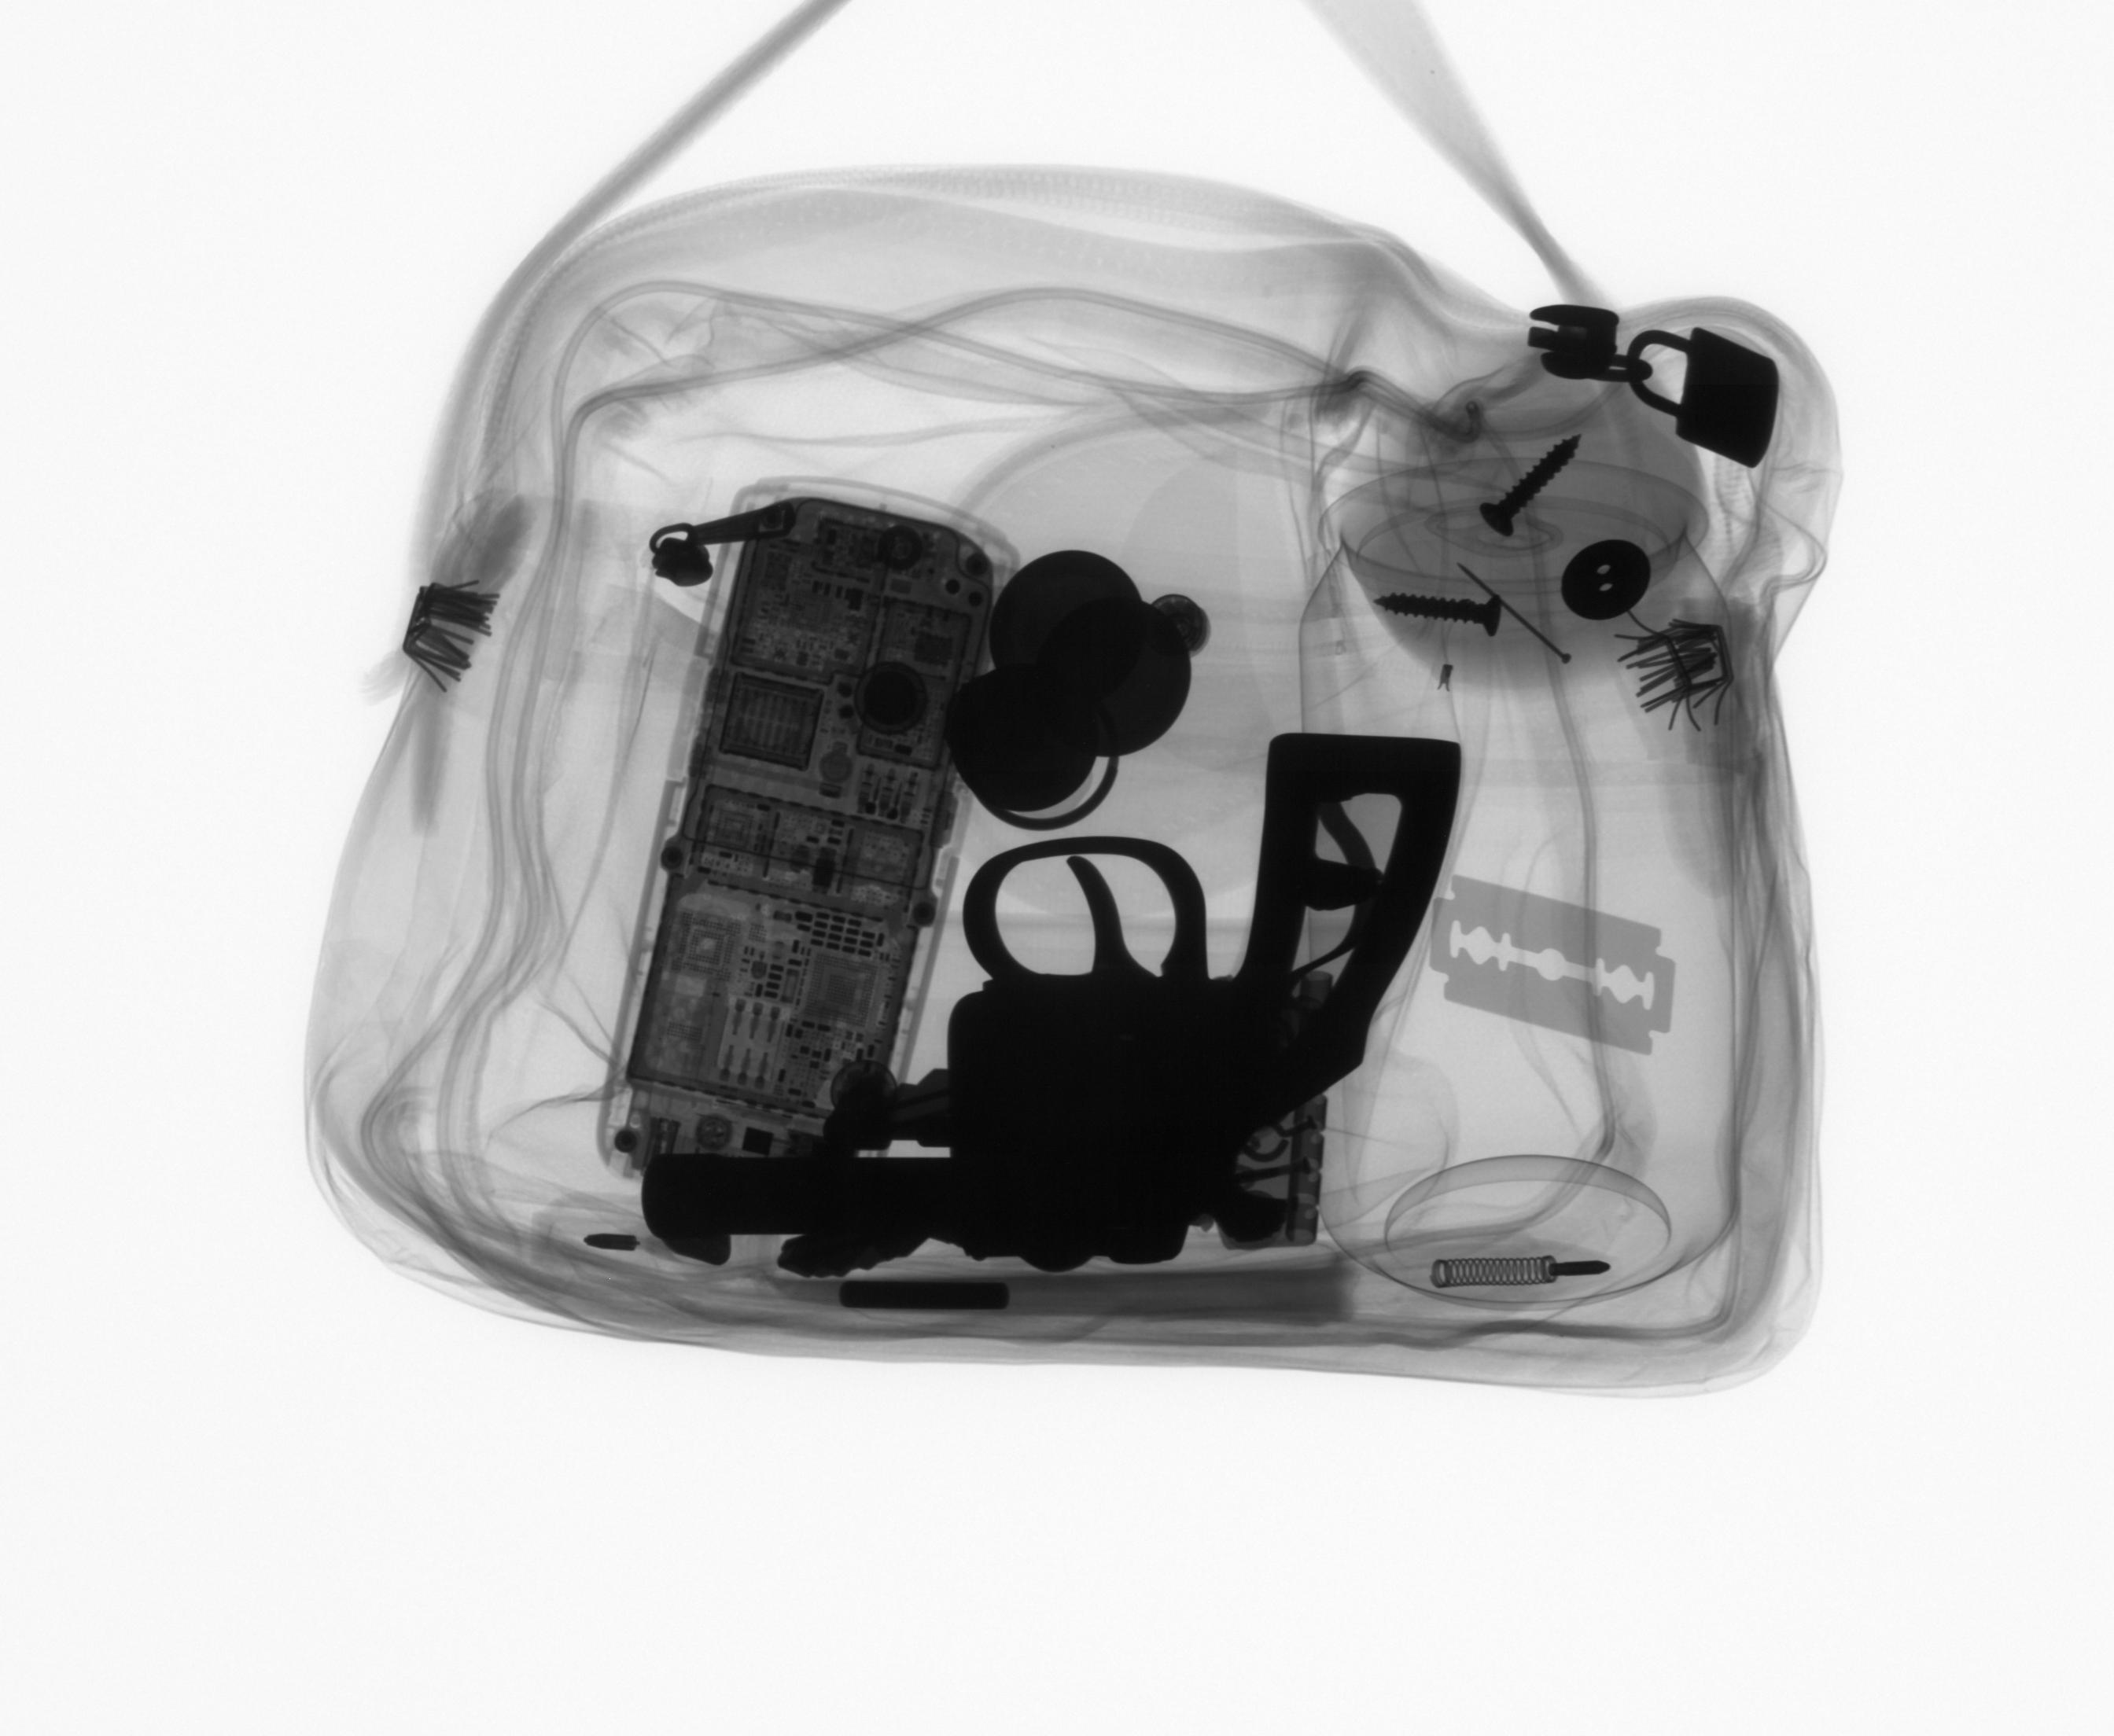Handgun: (630, 725, 1470, 1294)
RazorBlade: (1420, 867, 1684, 1064)
